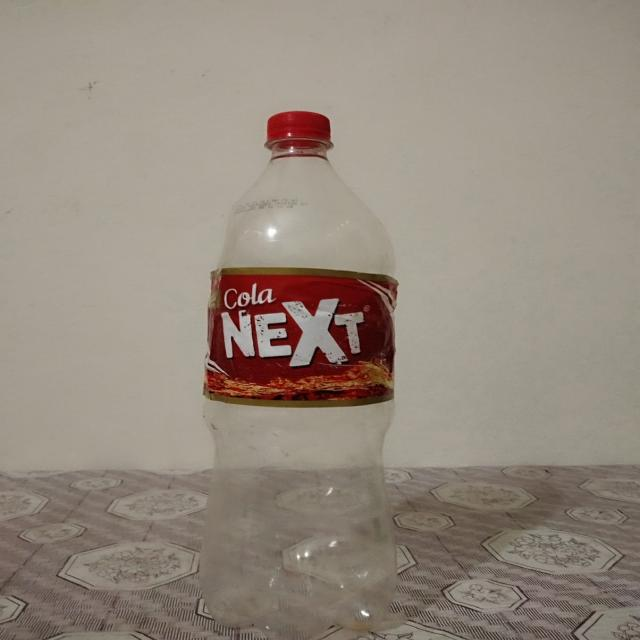bottle: (201, 111, 397, 640)
cap: (266, 110, 330, 142)
label: (204, 268, 399, 408)
